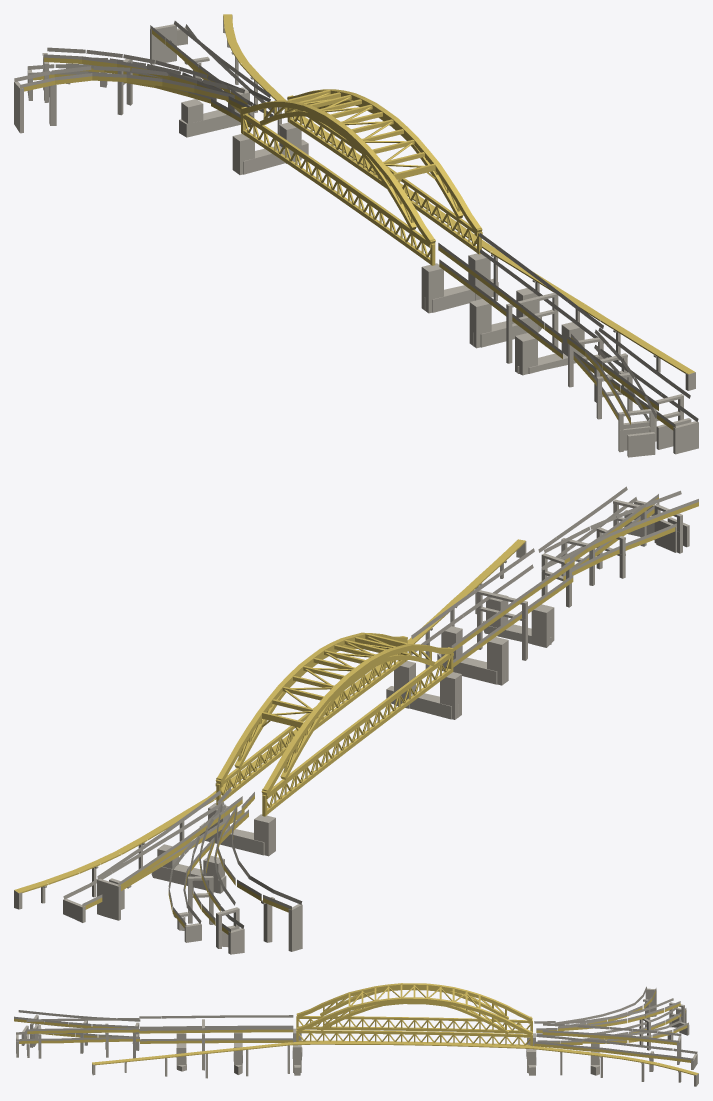
File: pit-fort-duquesne-bridge.glb
3 views of the same model, one above another, from view 1: azimuth 30°, elevation 25°; view 2: azimuth 150°, elevation 25°; view 3: azimuth 270°, elevation 25° (orthographic). The views are drawn at different scales.
Visible parts, largest first — view 1: Fort Duquesne Bridge; view 2: Fort Duquesne Bridge; view 3: Fort Duquesne Bridge.
Part boxes in pixels (box(x1,y1,x2,y2)): Fort Duquesne Bridge: box(14, 14, 698, 457); Fort Duquesne Bridge: box(14, 486, 698, 954); Fort Duquesne Bridge: box(14, 983, 698, 1086).
Bounding box in the file's own units: 100 × 44.54 × 380.
